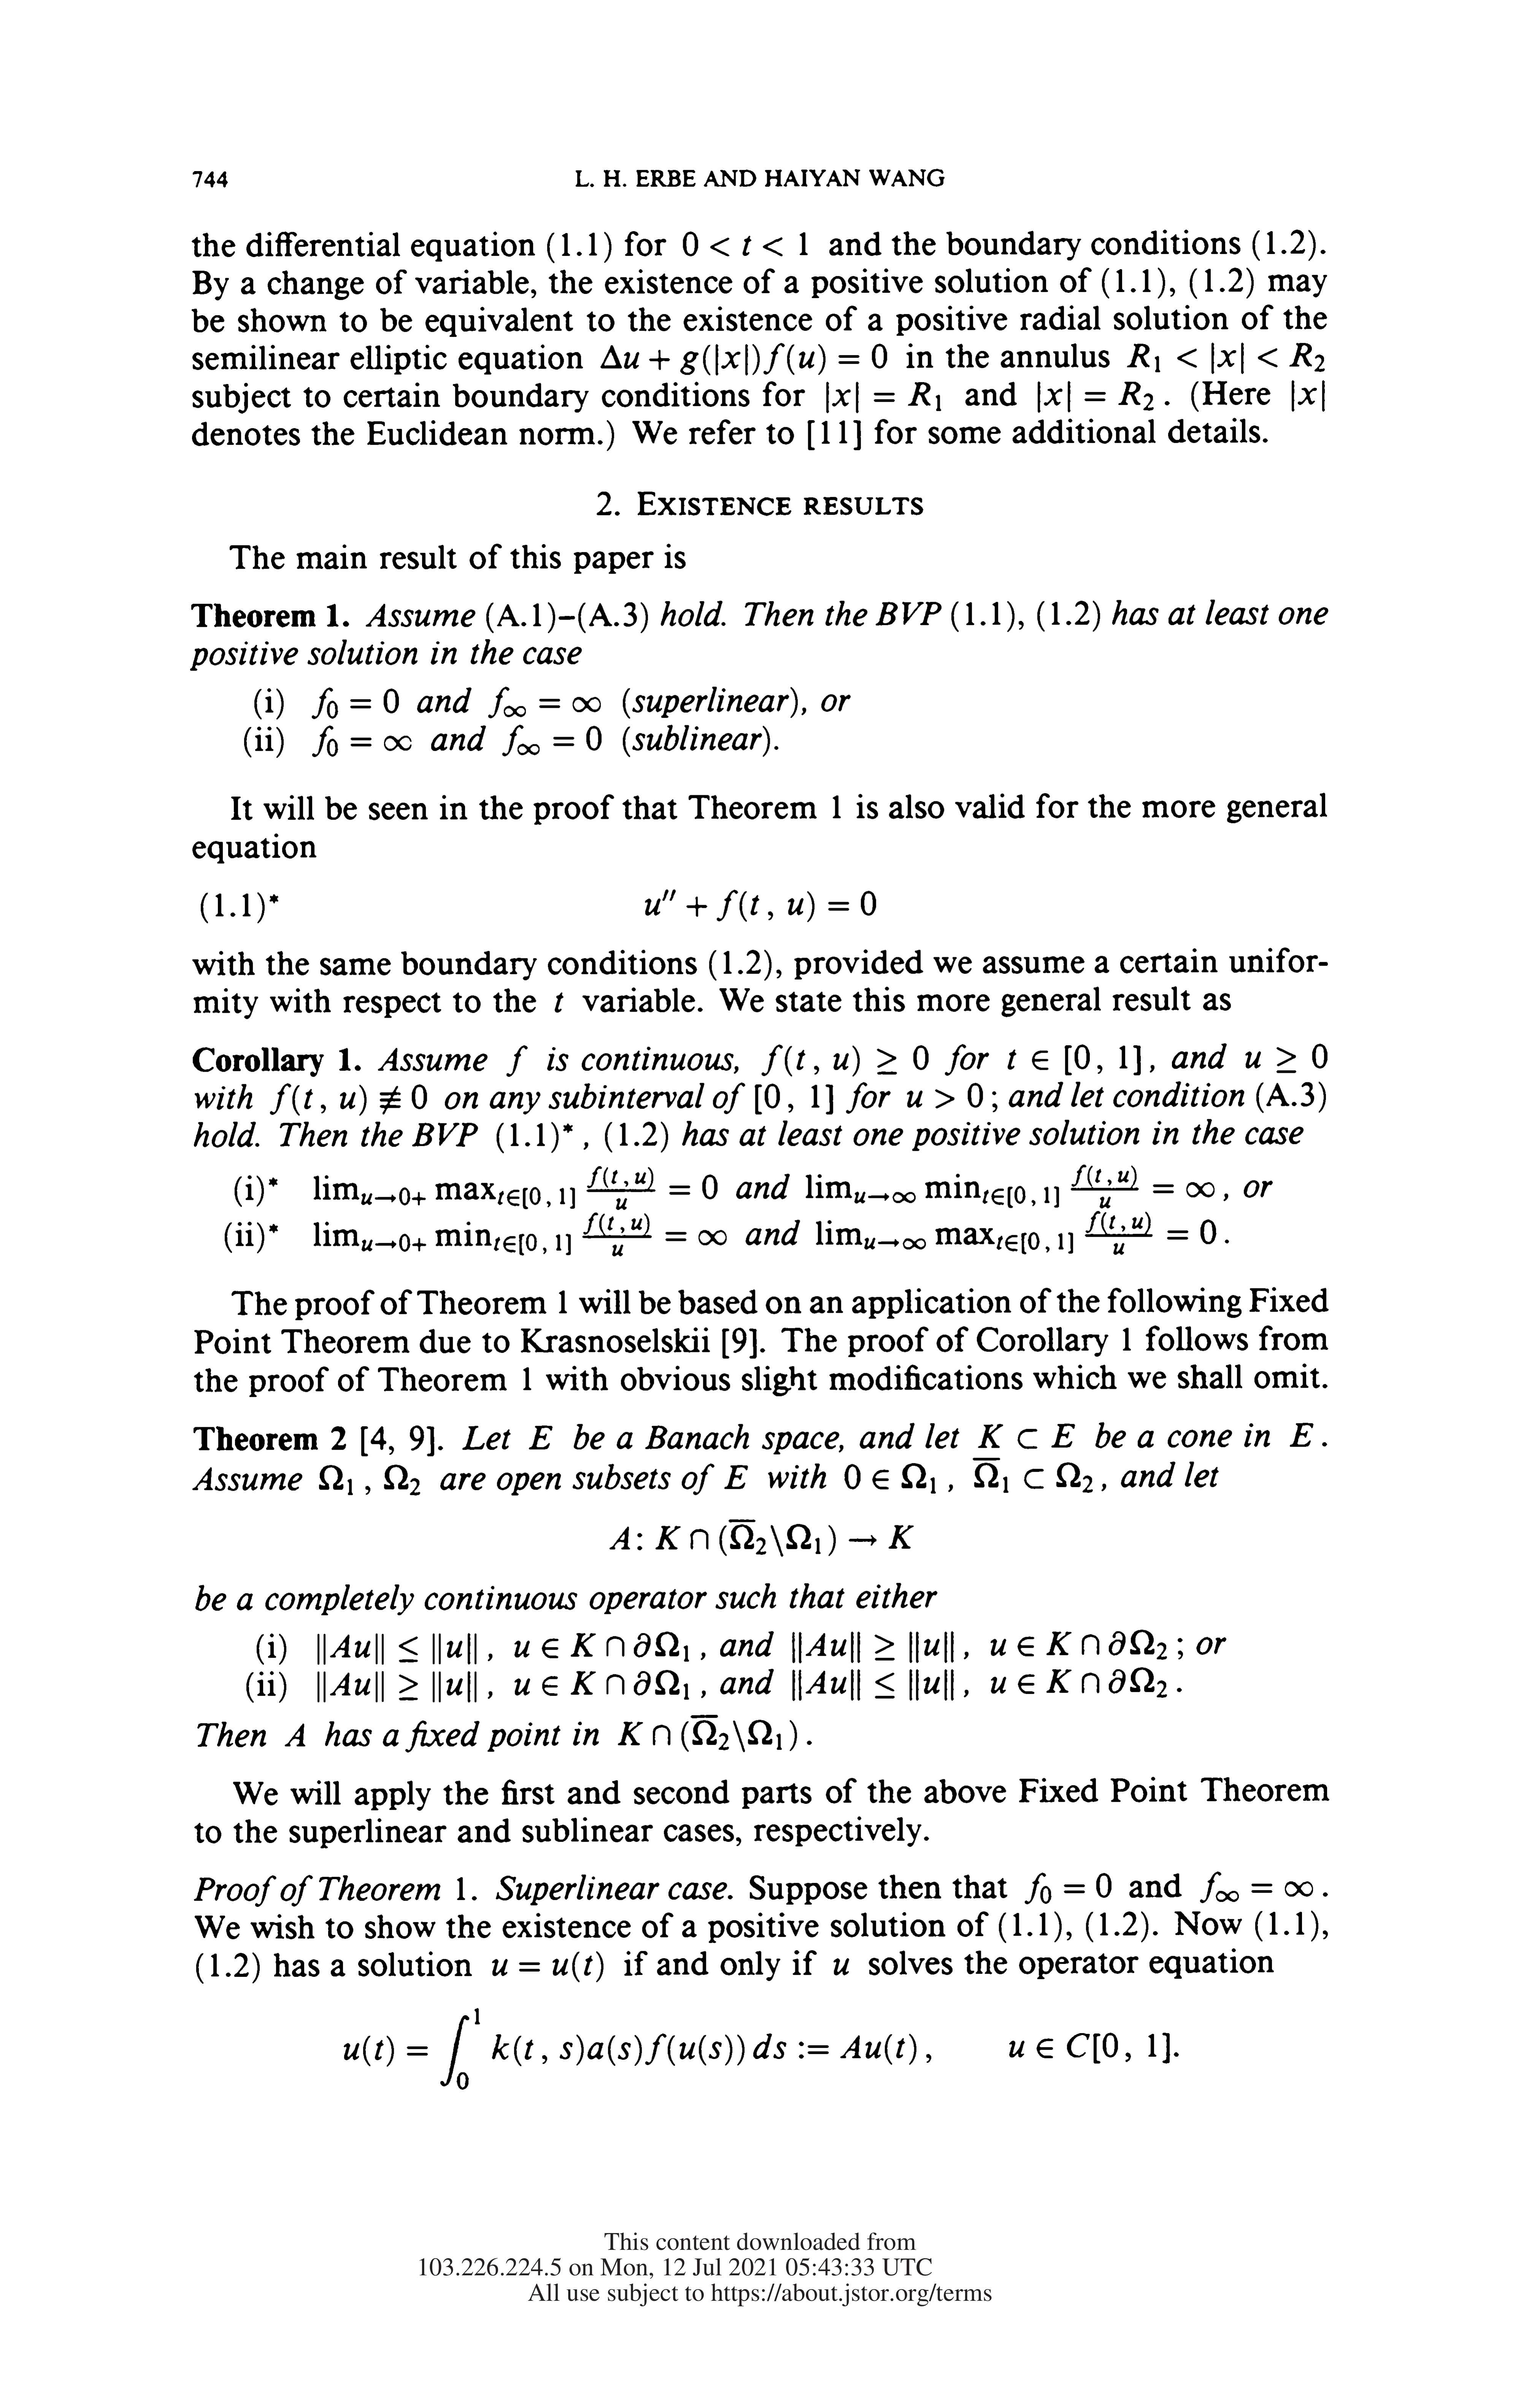maths: (343, 2008, 916, 2089), (314, 1213, 725, 1257), (817, 1211, 1216, 1255), (806, 1165, 1214, 1208), (314, 1167, 717, 1209), (610, 1519, 913, 1556), (601, 343, 887, 375), (645, 889, 876, 922), (619, 1716, 797, 1753), (1127, 342, 1325, 373), (992, 1667, 1167, 1698), (990, 1630, 1167, 1660), (762, 1045, 929, 1076), (515, 1632, 689, 1661), (515, 1670, 689, 1700), (792, 1632, 953, 1663), (317, 1633, 477, 1665), (270, 1083, 426, 1115), (792, 1670, 953, 1700), (1009, 2033, 1171, 2063), (317, 1672, 477, 1702), (973, 1458, 1093, 1493), (1008, 1045, 1141, 1074), (1037, 380, 1153, 412), (827, 382, 941, 414), (489, 687, 601, 719), (1200, 1872, 1312, 1903), (492, 1951, 603, 1982), (845, 1463, 953, 1493), (312, 726, 412, 757), (503, 724, 601, 755), (683, 231, 808, 256), (312, 687, 398, 719), (1025, 1873, 1111, 1903), (978, 1423, 1074, 1449), (755, 1083, 832, 1115), (1246, 1043, 1326, 1073), (908, 1083, 983, 1108), (319, 1465, 370, 1495), (384, 1465, 421, 1495), (1291, 380, 1325, 412), (506, 1045, 527, 1076), (529, 1425, 552, 1449), (724, 1465, 748, 1488), (1290, 1423, 1312, 1446), (284, 1725, 305, 1746), (834, 1958, 848, 1975), (555, 992, 562, 1011)
